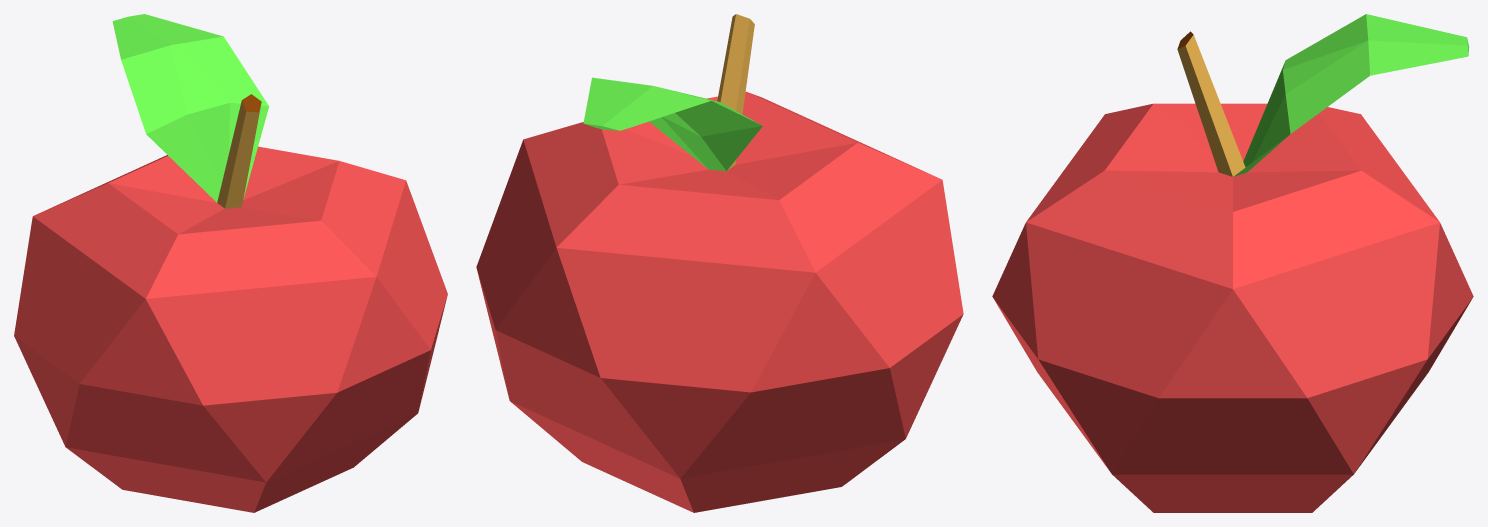
Rendered from applered01.obj.
3 views of the same model, side by side, from view 1: azimuth 30°, elevation 25°; view 2: azimuth 150°, elevation 25°; view 3: azimuth 270°, elevation 25° (orthographic). The views are drawn at different scales.
Parts seen in each view (by area): view 1: Icosphere; view 2: Icosphere; view 3: Icosphere.
Boxes of the visible parts, left/top/right/bottom form: Icosphere: left=14, top=14, right=447, bottom=512; Icosphere: left=476, top=14, right=963, bottom=512; Icosphere: left=992, top=14, right=1473, bottom=512.
Size of the model in its own units: 0.0931 by 0.0995 by 0.0931.
1 material, 1 textured.
